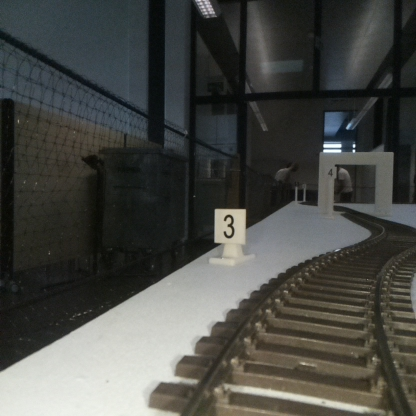white-info-4: (325, 166, 336, 220)
white-stop-3: (214, 209, 245, 263)
